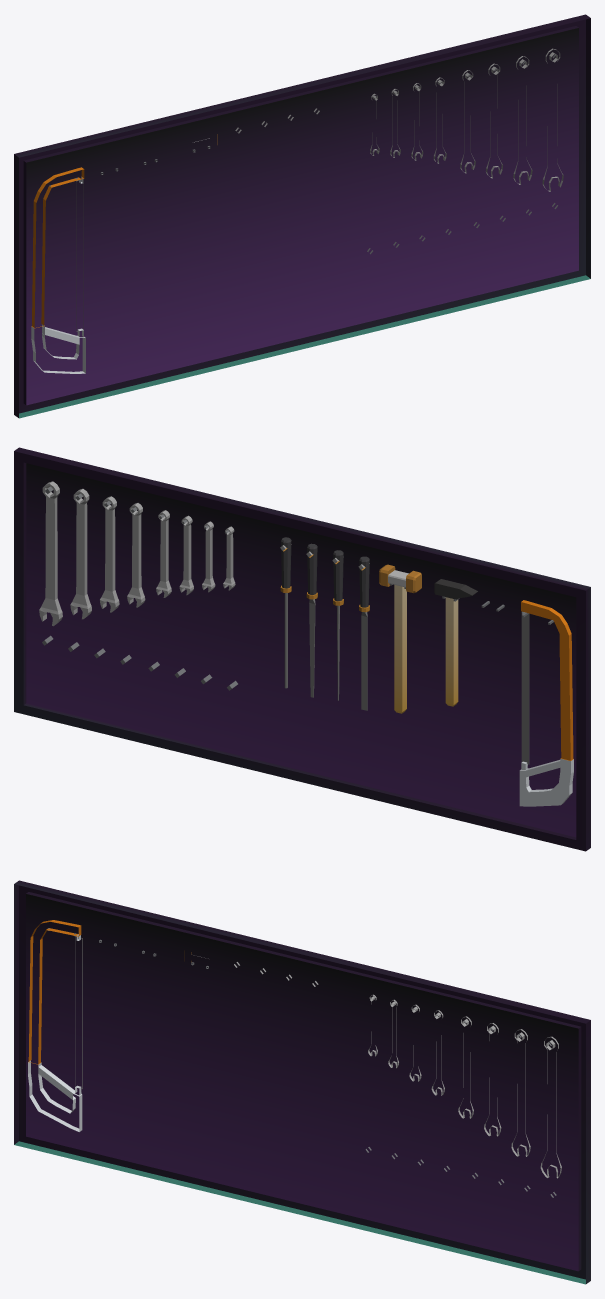
Rendered from ferramentas.fbx.
3 views of the same model, one above another, from view 1: azimuth 30°, elevation 25°; view 2: azimuth 150°, elevation 25°; view 3: azimuth 330°, elevation 25° (orthographic).
Parts seen in each view (by area): view 1: panel_tool; view 2: panel_tool; view 3: panel_tool.
Part boxes in pixels (<box>): panel_tool: <box>14,14,590,418</box>; panel_tool: <box>14,447,590,851</box>; panel_tool: <box>14,880,590,1284</box>.
Size of the model in its own units: 2410 by 1050 by 77.87.
